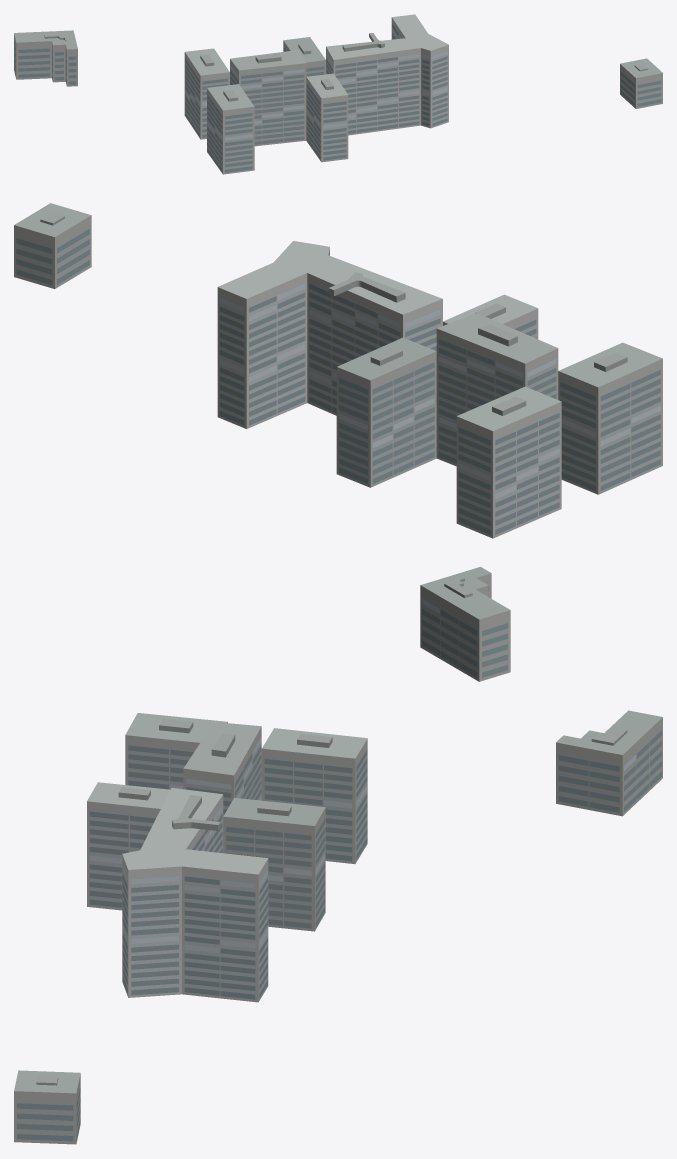
File: apt-a12282102.glb
3 views of the same model, one above another, from view 1: azimuth 30°, elevation 25°; view 2: azimuth 150°, elevation 25°; view 3: azimuth 270°, elevation 25° (orthographic). The views are drawn at different scales.
Visible parts, largest first — view 1: apt-a12282102; view 2: apt-a12282102; view 3: apt-a12282102.
Boxes of the visible parts, bbox=[...] form: apt-a12282102: bbox=[14, 14, 662, 174]; apt-a12282102: bbox=[14, 203, 662, 681]; apt-a12282102: bbox=[14, 710, 662, 1144].
Bounding box in the file's own units: 239 × 40 × 176.
